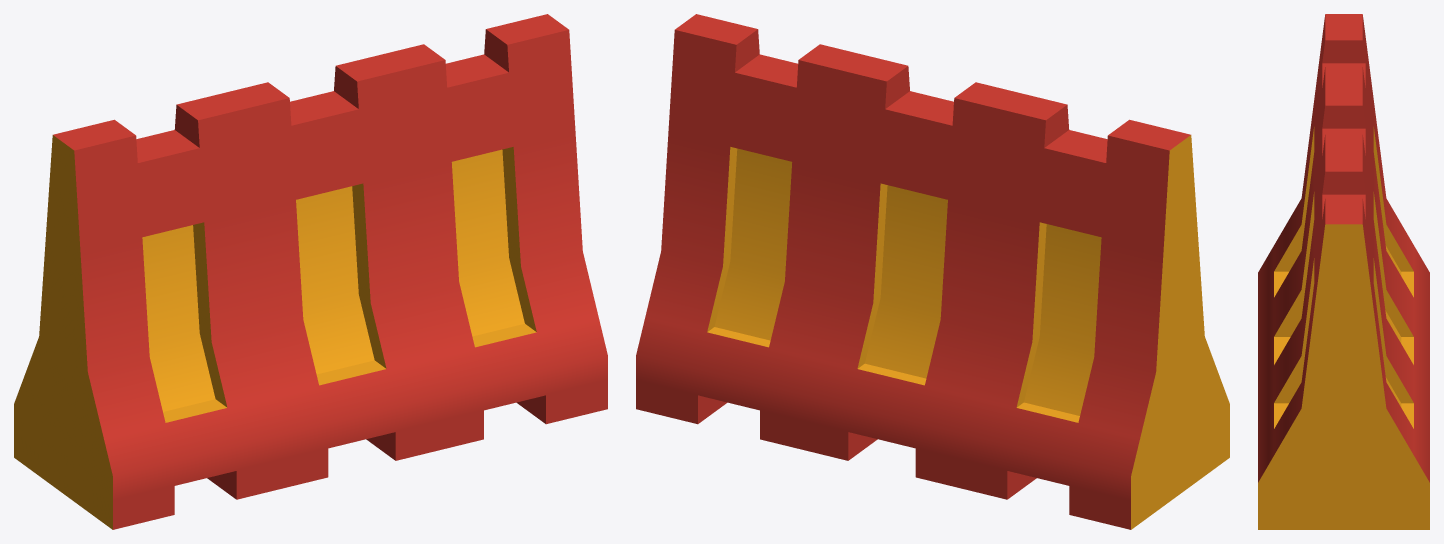
Rendered from Barricade_Plastic_04.fbx.
The picture shows the model from 3 angles, left to right: view 1: azimuth 30°, elevation 25°; view 2: azimuth 150°, elevation 25°; view 3: azimuth 270°, elevation 25°; orthographic projection. The views are drawn at different scales.
Visible parts, largest first — view 1: Obstacle_Barricade_Plastic_04; view 2: Obstacle_Barricade_Plastic_04; view 3: Obstacle_Barricade_Plastic_04.
Boxes of the visible parts, x1=… form: Obstacle_Barricade_Plastic_04: x1=14, y1=14, x2=607, y2=529; Obstacle_Barricade_Plastic_04: x1=636, y1=14, x2=1229, y2=529; Obstacle_Barricade_Plastic_04: x1=1258, y1=14, x2=1429, y2=529.
Bounding box in the file's own units: 101 × 68.44 × 34.86.
1 material, 1 textured.
